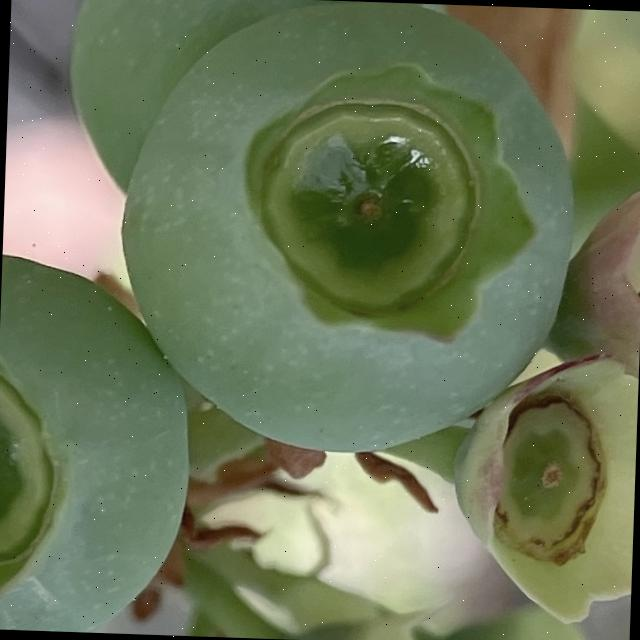Blueberries: (108, 0, 585, 464), (0, 252, 198, 635)
